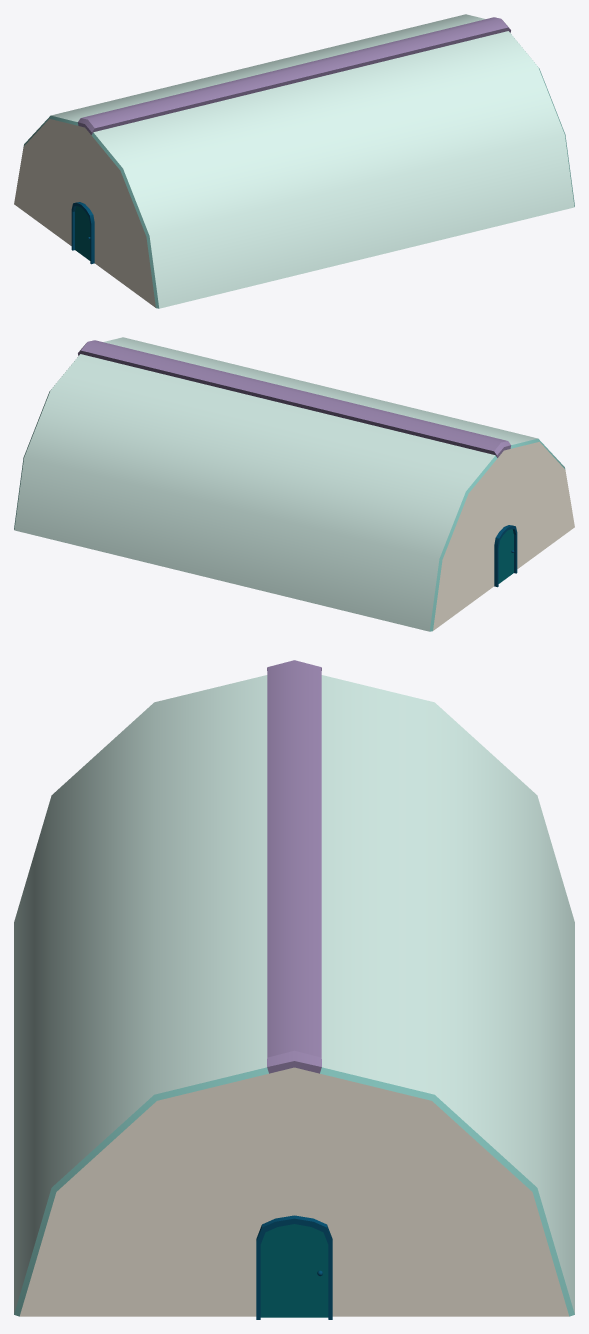
Rendered from House_3.fbx.
3 renders of one model, top to bottom at view 1: azimuth 30°, elevation 25°; view 2: azimuth 150°, elevation 25°; view 3: azimuth 270°, elevation 25°, orthographic. The views are drawn at different scales.
Visible parts, largest first — view 1: House_3; view 2: House_3; view 3: House_3.
Boxes of the visible parts, <box> form: House_3: <box>14,14,574,308</box>; House_3: <box>14,337,574,631</box>; House_3: <box>14,660,574,1319</box>.
Bounding box in the file's own units: 622 × 366 × 190.
